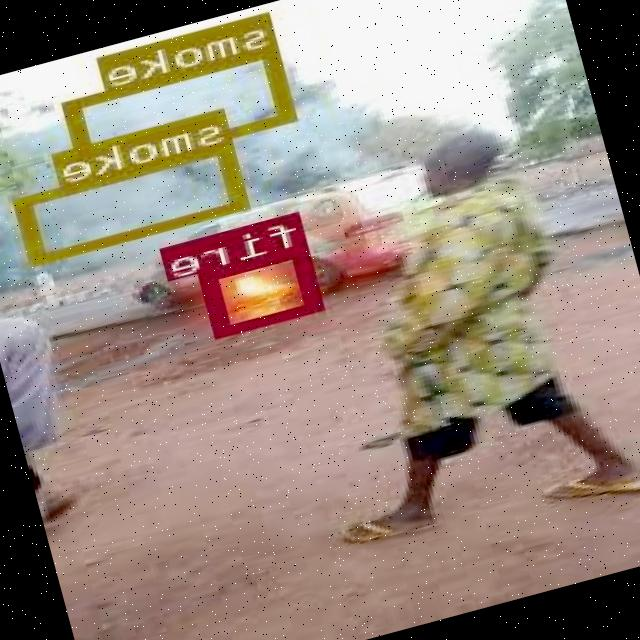fire: (202, 243, 327, 335)
smoke: (67, 42, 300, 174), (18, 138, 252, 264)
